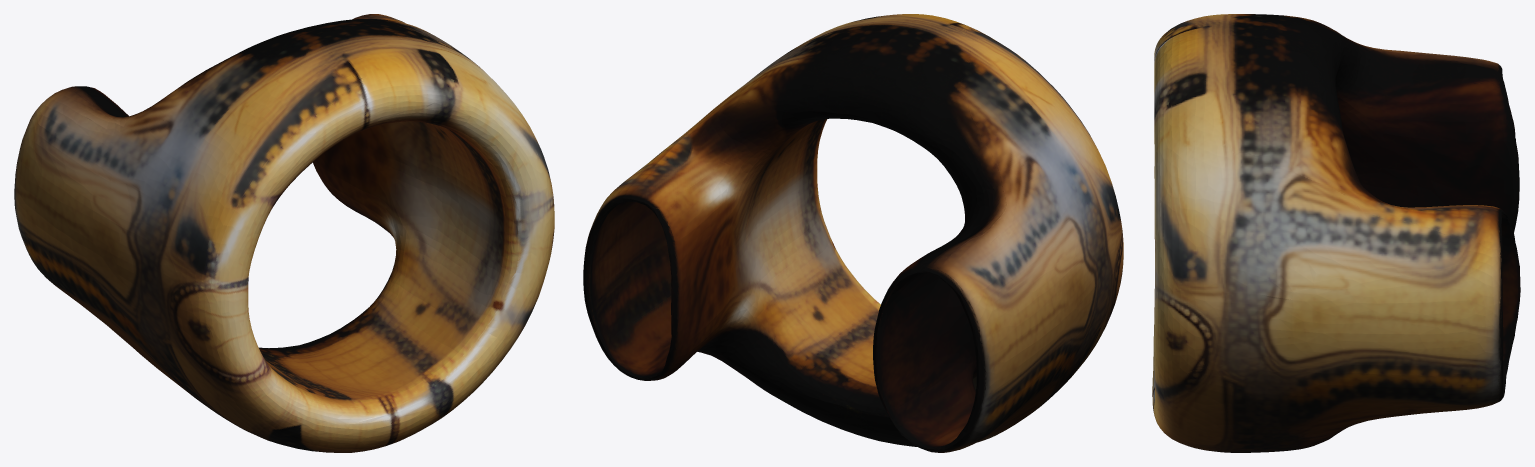
Rendered from fossilized-wood-ring-3d.jpeg.glb.
3 views of the same model, side by side, from view 1: azimuth 30°, elevation 25°; view 2: azimuth 150°, elevation 25°; view 3: azimuth 270°, elevation 25° (orthographic).
Parts seen in each view (by area): view 1: world; view 2: world; view 3: world.
Boxes of the visible parts, box(x1,y1,x2,y2) form: world: box(14, 14, 554, 452); world: box(583, 14, 1123, 452); world: box(1152, 14, 1520, 452).
Size of the model in its own units: 0.9282 by 0.8545 by 0.7074.
1 material, 1 textured.
